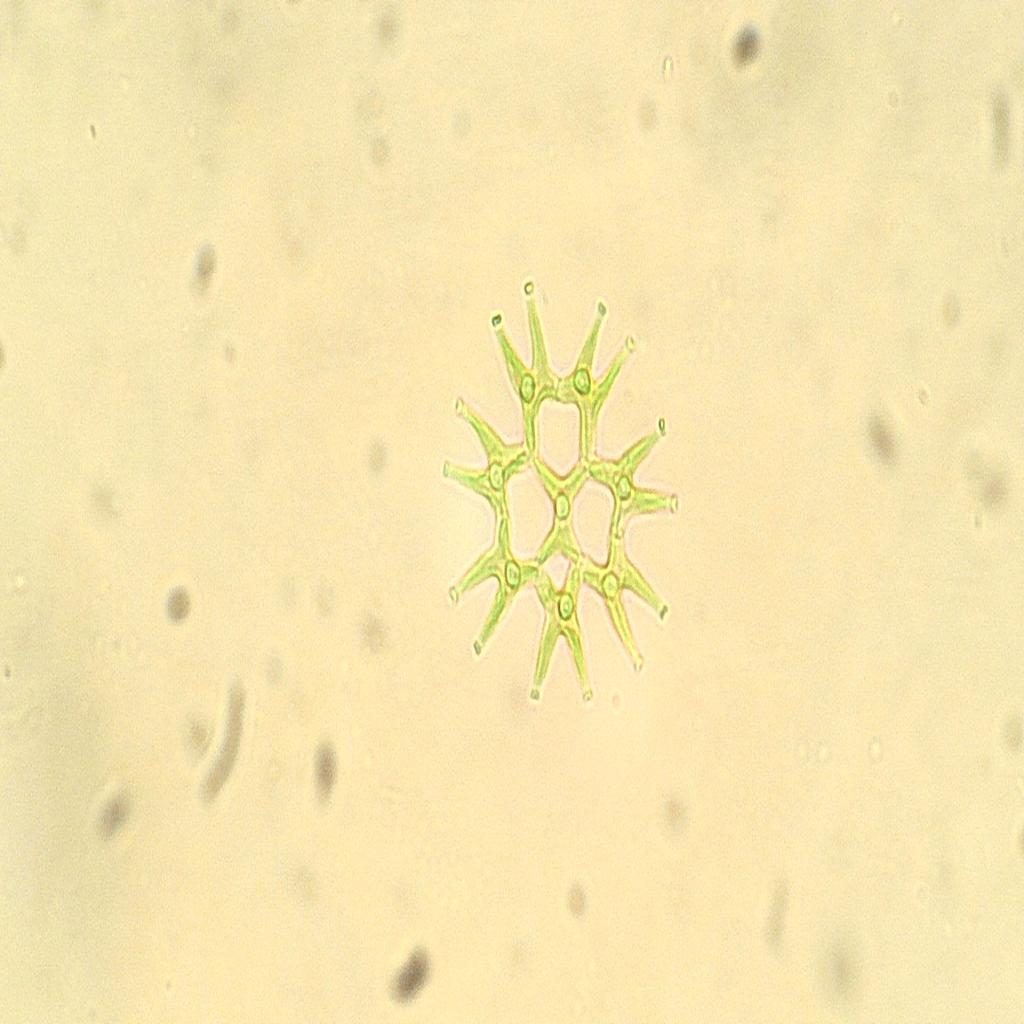Pediastrum_75T: (434, 264, 686, 742)
